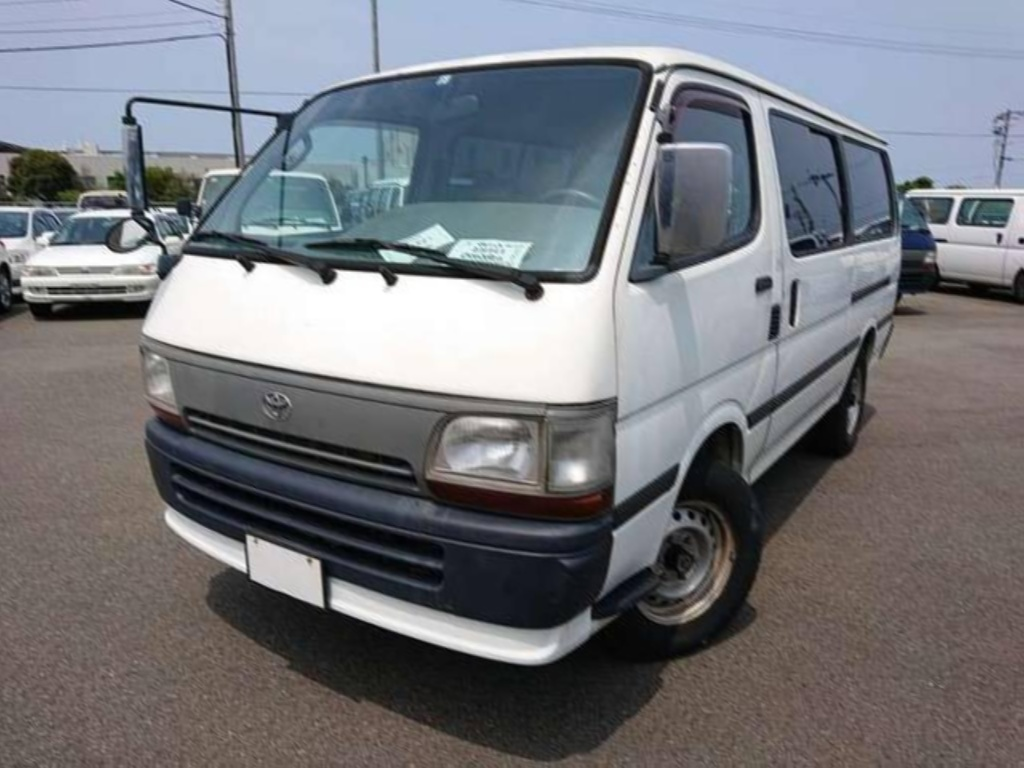van: (134, 54, 899, 650)
